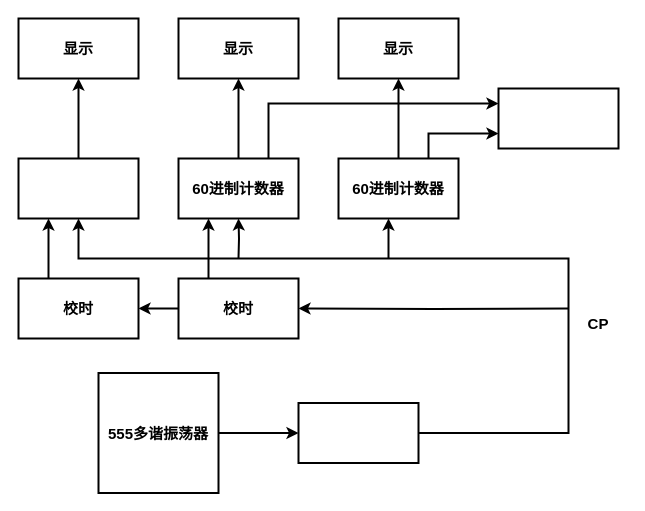
Some shapes in this 645 by 511 pixel diagram are drawn without their labels. Here are the shapes that lost their labels. From the top down, the centre of each, then its label:
point 558,118: 整点报时
point 78,188: 24进制计数器
point 358,433: 分频
